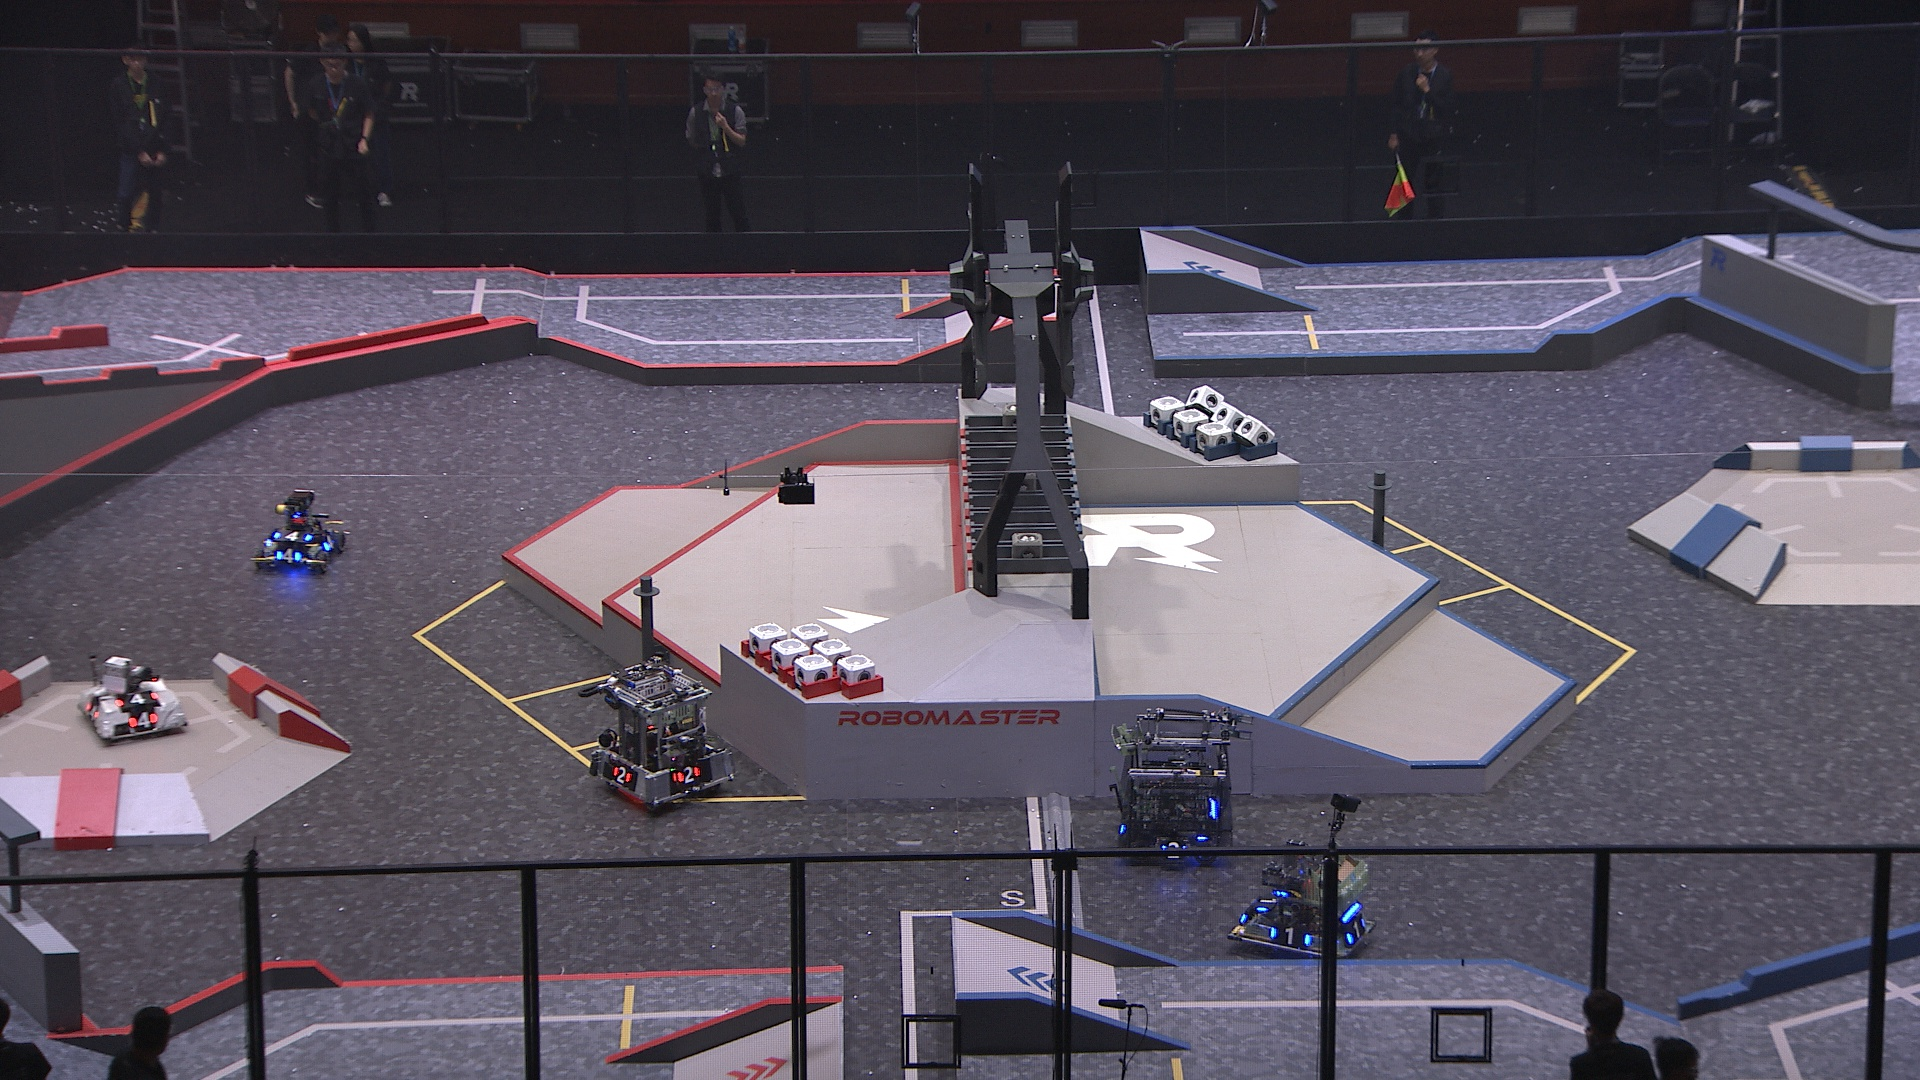armor: (1267, 920, 1313, 949), (1251, 885, 1286, 918), (112, 688, 161, 711), (1342, 916, 1370, 949), (1156, 837, 1192, 861), (673, 764, 705, 789), (272, 543, 305, 564), (127, 711, 161, 731), (269, 527, 313, 542), (611, 764, 636, 787), (82, 699, 103, 723), (323, 531, 338, 553)
car: (589, 657, 740, 815), (1106, 713, 1234, 869), (1228, 835, 1381, 963), (76, 651, 193, 745), (251, 488, 345, 574)
